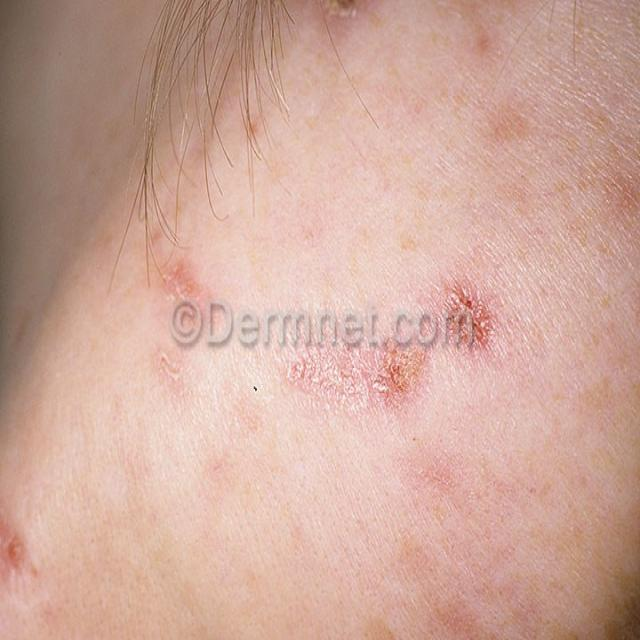Acne: (380, 346, 430, 403), (159, 261, 202, 301), (0, 522, 25, 576), (325, 0, 366, 23)
